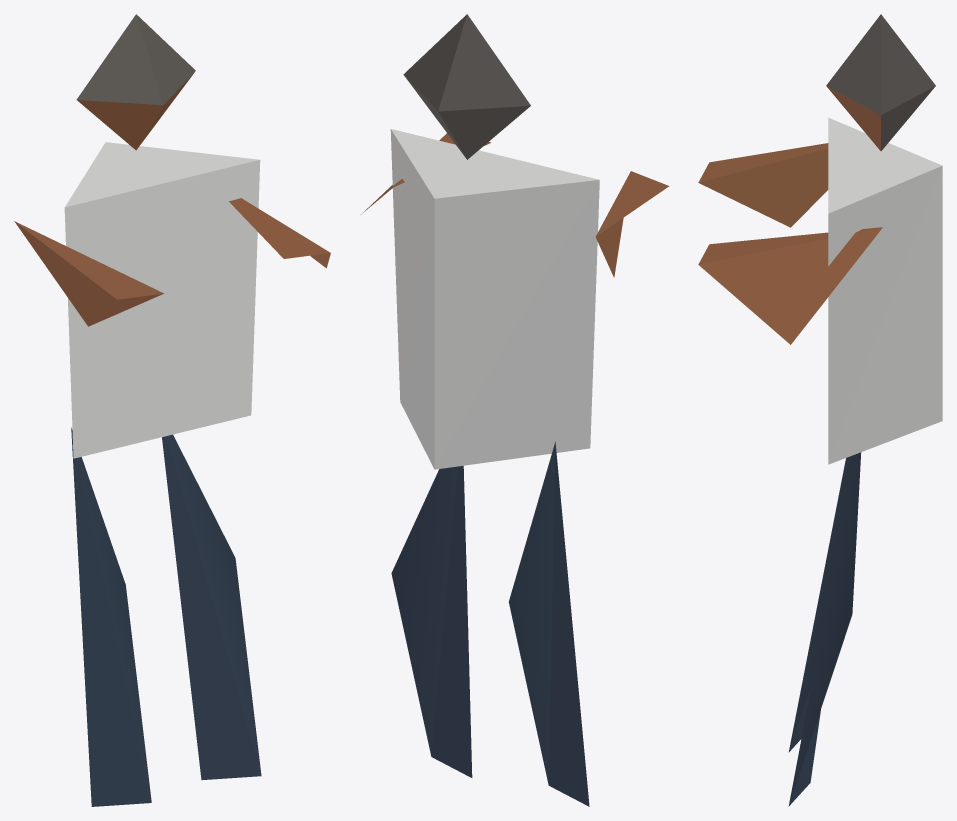
File: fan-12.glb
The picture shows the model from 3 angles, left to right: view 1: azimuth 30°, elevation 25°; view 2: azimuth 150°, elevation 25°; view 3: azimuth 270°, elevation 25°; orthographic projection. The views are drawn at different scales.
Parts seen in each view (by area): view 1: fan-12; view 2: fan-12; view 3: fan-12.
Boxes of the visible parts, x1,y1,x2,y2 form: fan-12: (14, 14, 330, 806); fan-12: (361, 14, 669, 806); fan-12: (698, 14, 942, 806).
Size of the model in its own units: 0.705 by 1.89 by 0.555.
